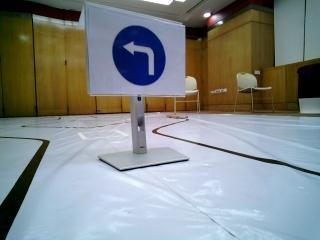left: (87, 24, 183, 99)
